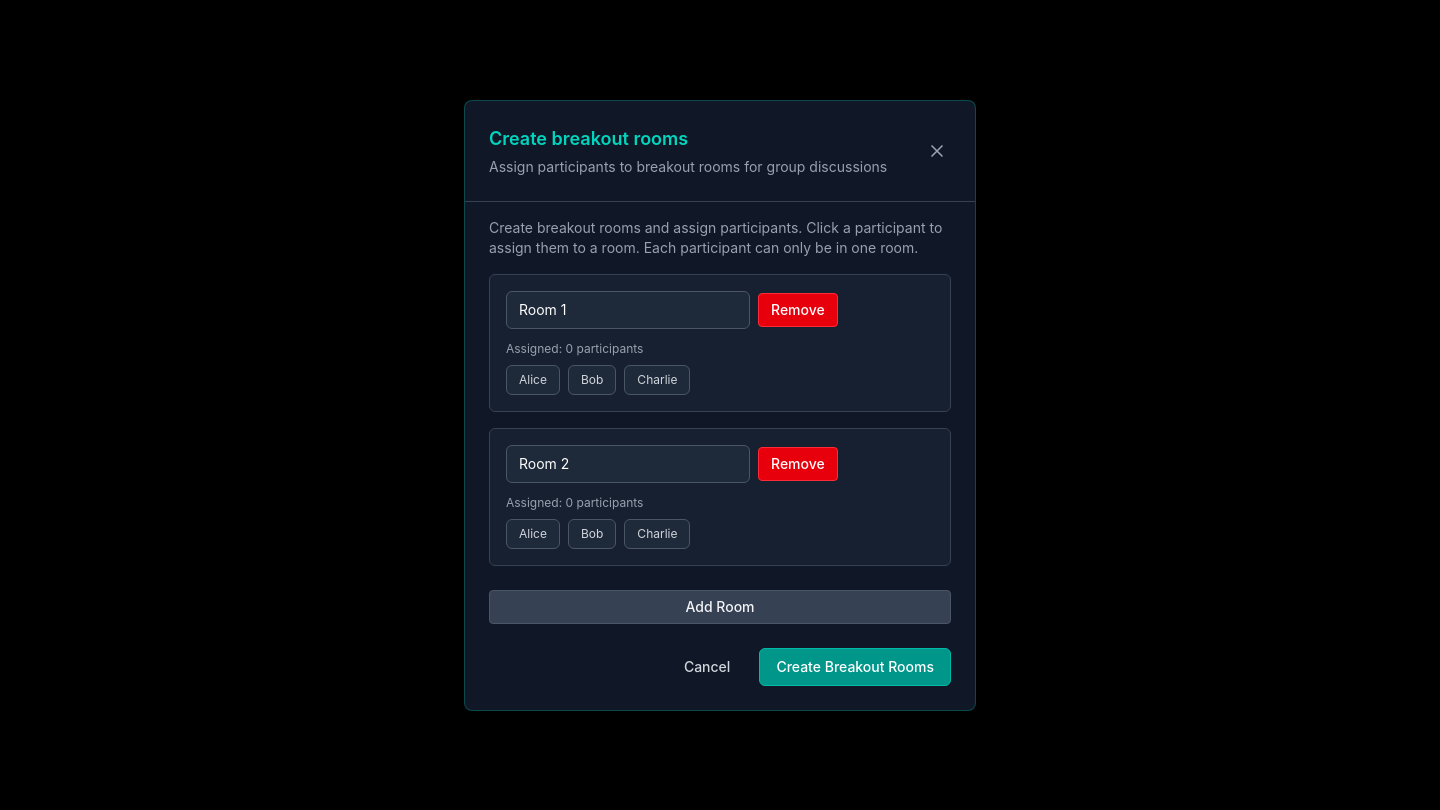
Test: BreakoutModal Component › Room Management › allows adding new rooms
The image size is (1440, 810).
Add a room
Click the button "Add Room": (720, 606) [489, 590, 951, 624]
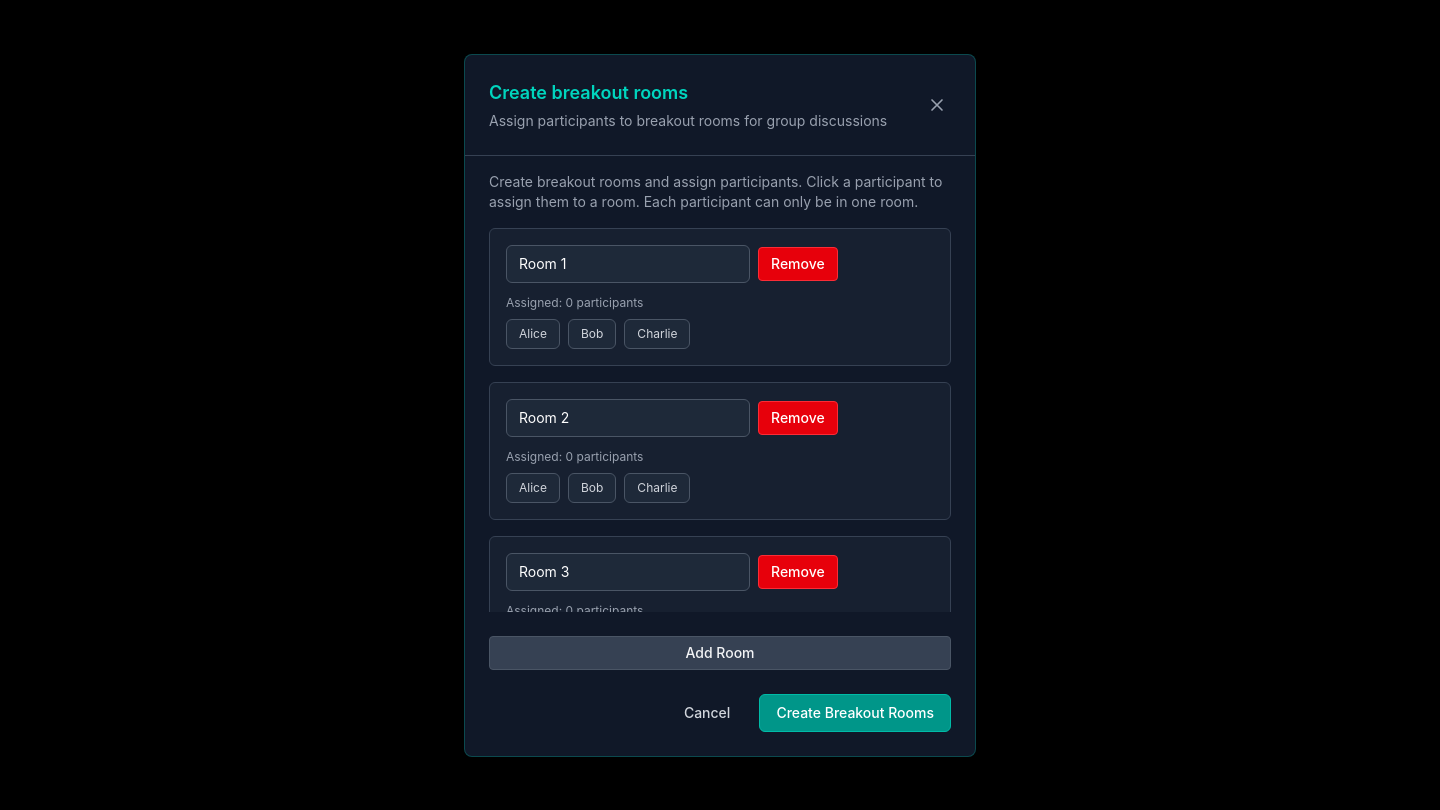
Expected: the number of fields with placeholder "Enter room name" is 3, [506, 244, 750, 282]; [506, 398, 750, 436]; [506, 552, 750, 590]
